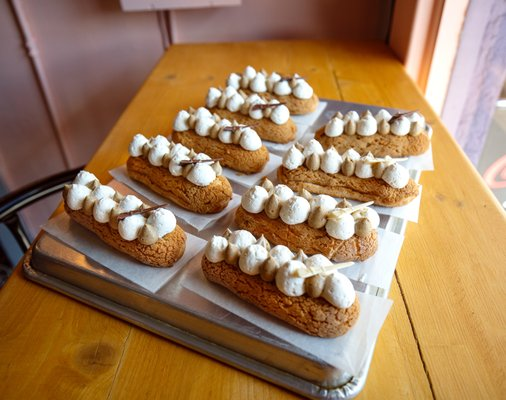curry: (29, 20, 505, 393)
salad: (61, 171, 187, 268)
sushi: (201, 228, 365, 339), (233, 176, 380, 264), (61, 170, 188, 269), (125, 133, 234, 214)
